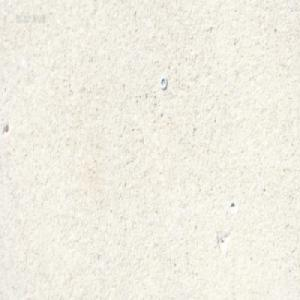Washer: (159, 75, 167, 89)
